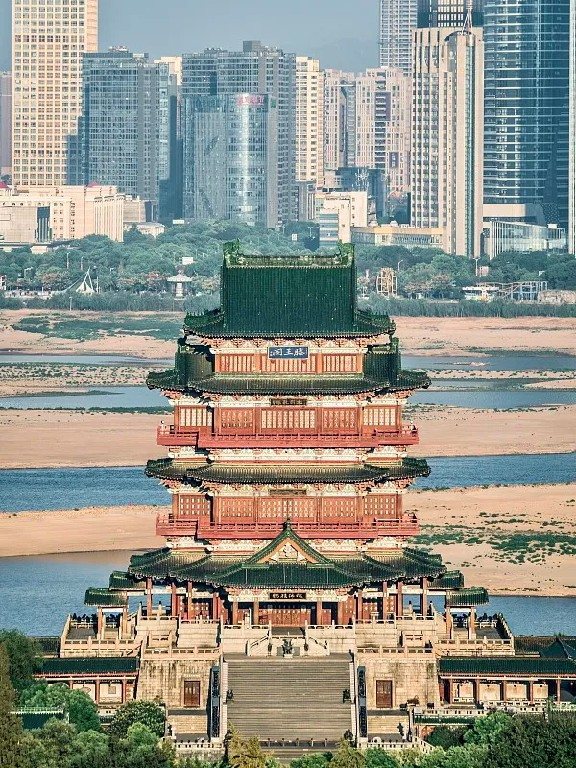Teng: (85, 257, 488, 636)
